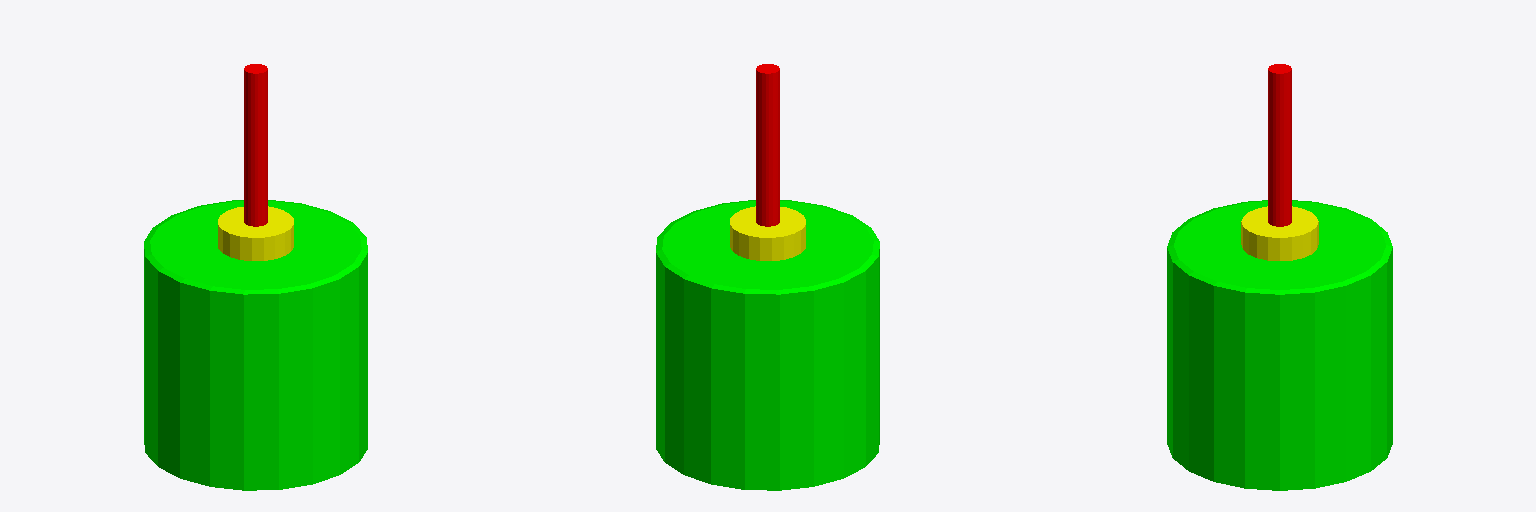
File: LampOBJ.obj
3 views of the same model, side by side, from view 1: azimuth 30°, elevation 25°; view 2: azimuth 150°, elevation 25°; view 3: azimuth 270°, elevation 25° (orthographic).
Visible parts, largest first — view 1: Cover, Pole, Base; view 2: Cover, Pole, Base; view 3: Cover, Pole, Base.
Boxes of the visible parts, x1,y1,x2,y2 form: Cover: [144, 200, 367, 490]; Pole: [244, 64, 267, 226]; Base: [218, 206, 293, 260]; Cover: [656, 200, 879, 490]; Pole: [756, 64, 779, 226]; Base: [730, 206, 805, 260]; Cover: [1167, 200, 1392, 490]; Pole: [1268, 64, 1291, 226]; Base: [1241, 206, 1318, 260].
Bounding box in the file's own units: 5.86 × 10.71 × 5.86.